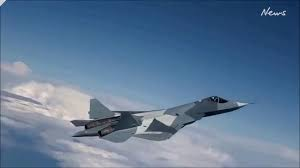fighter: (69, 93, 254, 145)
